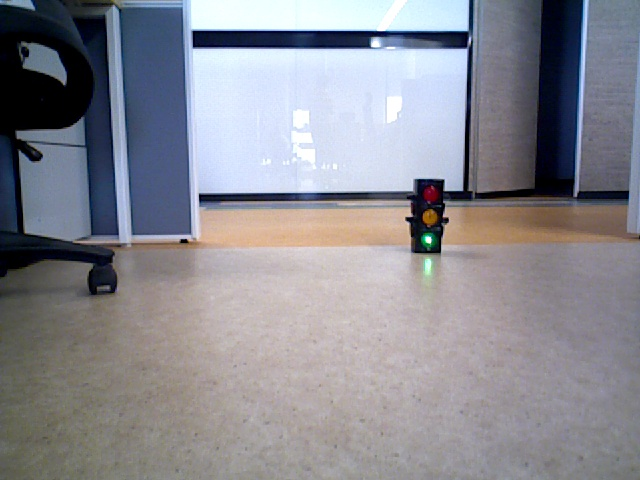green: (411, 180, 442, 249)
